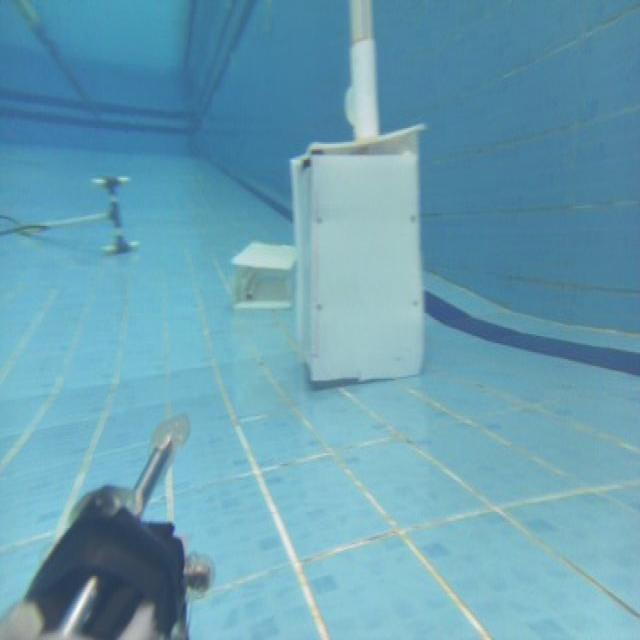Cube: (288, 125, 427, 388)
Cuboid: (229, 238, 296, 311)
